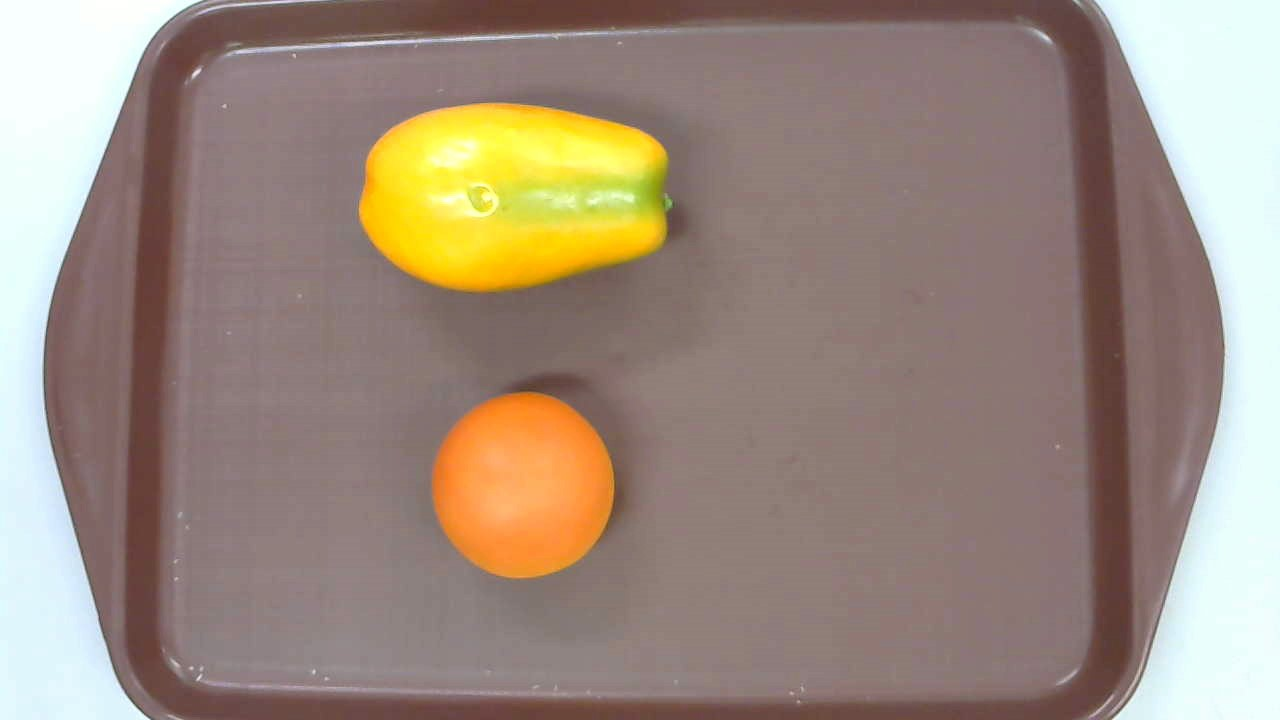bun: (432, 391, 616, 579)
papya: (358, 102, 674, 294)
